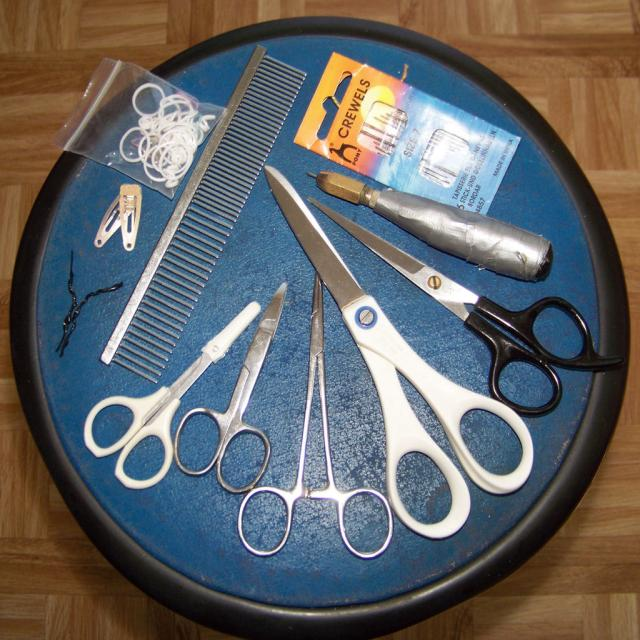scissors: (262, 164, 534, 539), (306, 194, 624, 417), (237, 271, 393, 558), (83, 299, 260, 489), (172, 281, 287, 493)
